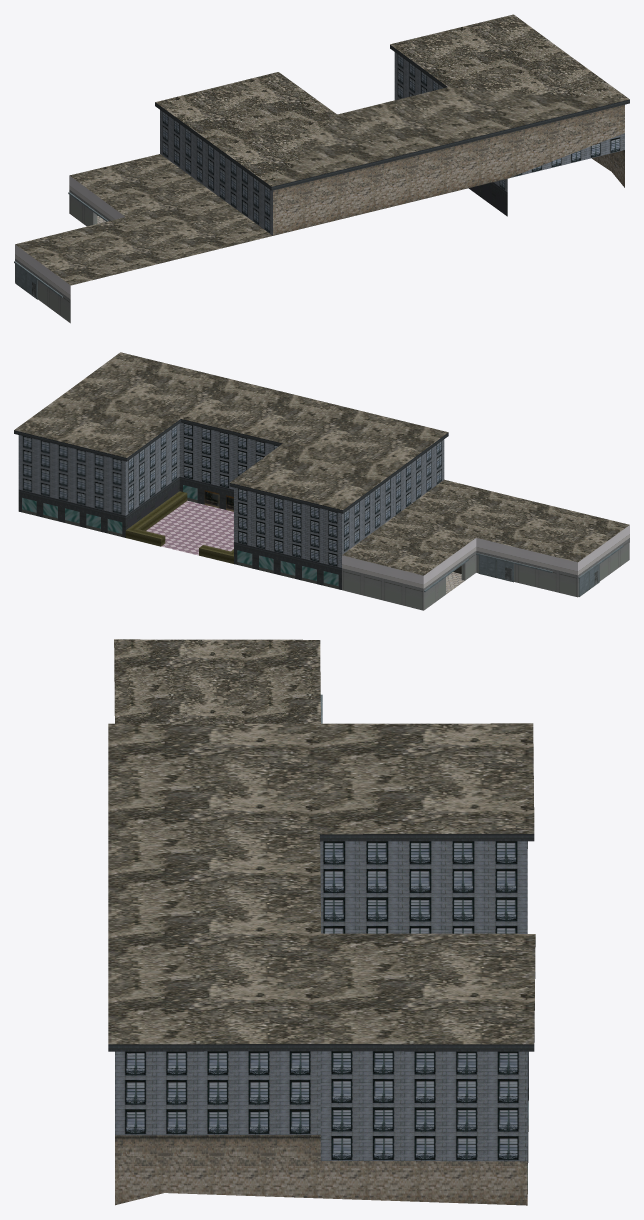
The model's file is dwntwnbit1b_las.obj.
3 views of the same model, one above another, from view 1: azimuth 30°, elevation 25°; view 2: azimuth 150°, elevation 25°; view 3: azimuth 270°, elevation 25° (orthographic). The views are drawn at different scales.
Visible parts, largest first — view 1: dwntwnbit1b_LAS; view 2: dwntwnbit1b_LAS; view 3: dwntwnbit1b_LAS.
Boxes of the visible parts, box(x1,y1,x2,y2) form: dwntwnbit1b_LAS: box(14, 14, 629, 323); dwntwnbit1b_LAS: box(14, 352, 629, 610); dwntwnbit1b_LAS: box(108, 639, 535, 1205).
Bounding box in the file's own units: 88.87 × 13.63 × 32.12.
